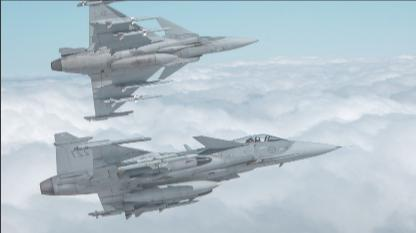JAS39: (38, 131, 358, 219), (48, 1, 269, 123)
